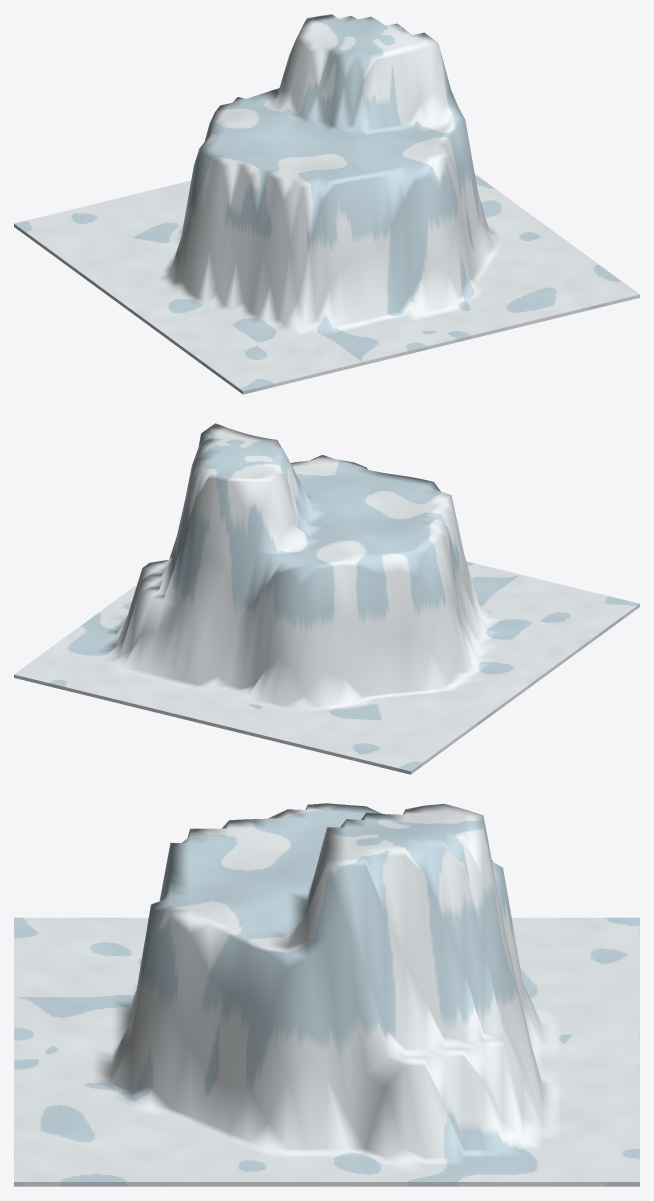
Rendered from Snow_Mountains_12.obj.
3 renders of one model, top to bottom at view 1: azimuth 30°, elevation 25°; view 2: azimuth 150°, elevation 25°; view 3: azimuth 270°, elevation 25°, orthographic. The views are drawn at different scales.
Bounding box in the file's own units: 10 × 4.69 × 10.
1 material, 1 textured.
